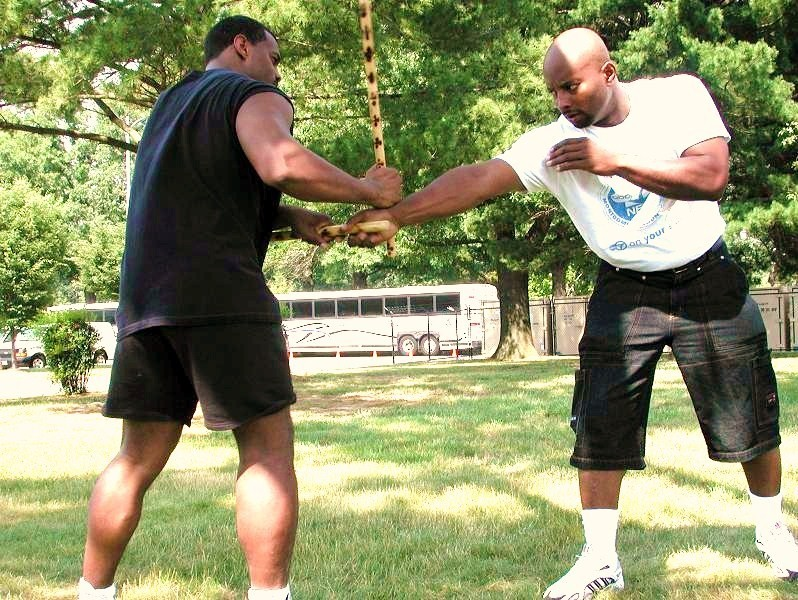baston_e: (357, 5, 385, 168), (272, 219, 385, 243)
baston_v: (384, 238, 400, 257), (374, 217, 394, 232)
